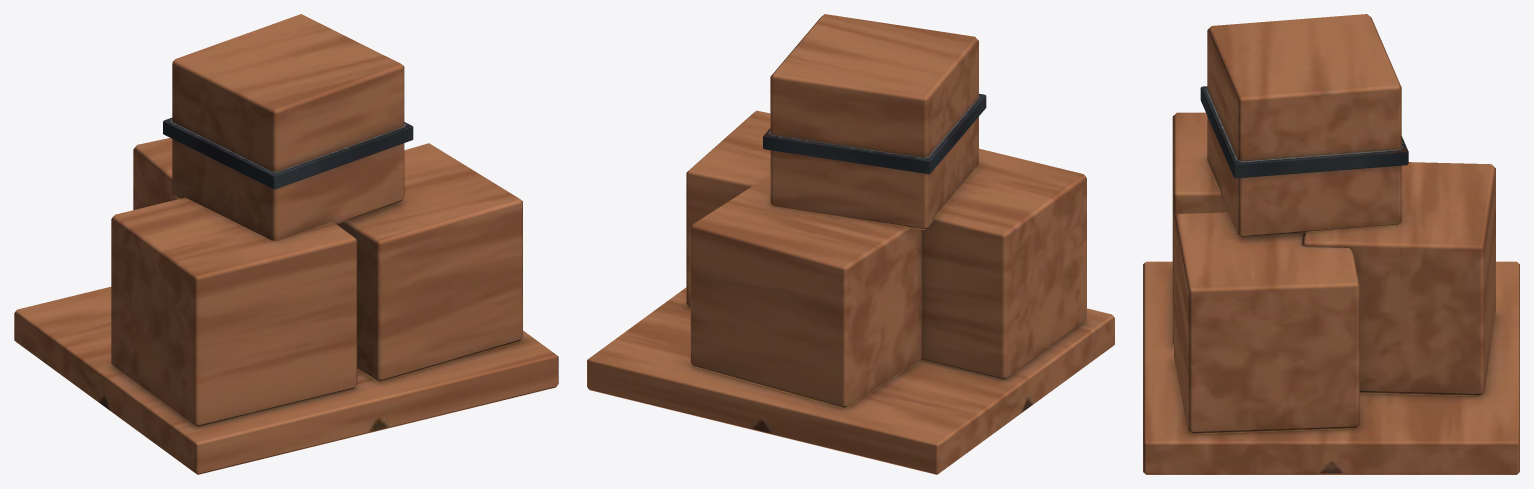
Rendered from crate_stack_pallet.glb.
The picture shows the model from 3 angles, left to right: view 1: azimuth 30°, elevation 25°; view 2: azimuth 150°, elevation 25°; view 3: azimuth 270°, elevation 25°; orthographic projection. The views are drawn at different scales.
Parts seen in each view (by area): view 1: CrateStackPallet; view 2: CrateStackPallet; view 3: CrateStackPallet.
Boxes of the visible parts, x1=… form: CrateStackPallet: x1=14, y1=14, x2=558, y2=474; CrateStackPallet: x1=587, y1=14, x2=1114, y2=474; CrateStackPallet: x1=1143, y1=14, x2=1519, y2=474.
Size of the model in its own units: 1.6 by 1.33 by 1.4.
1 material, 1 textured.
